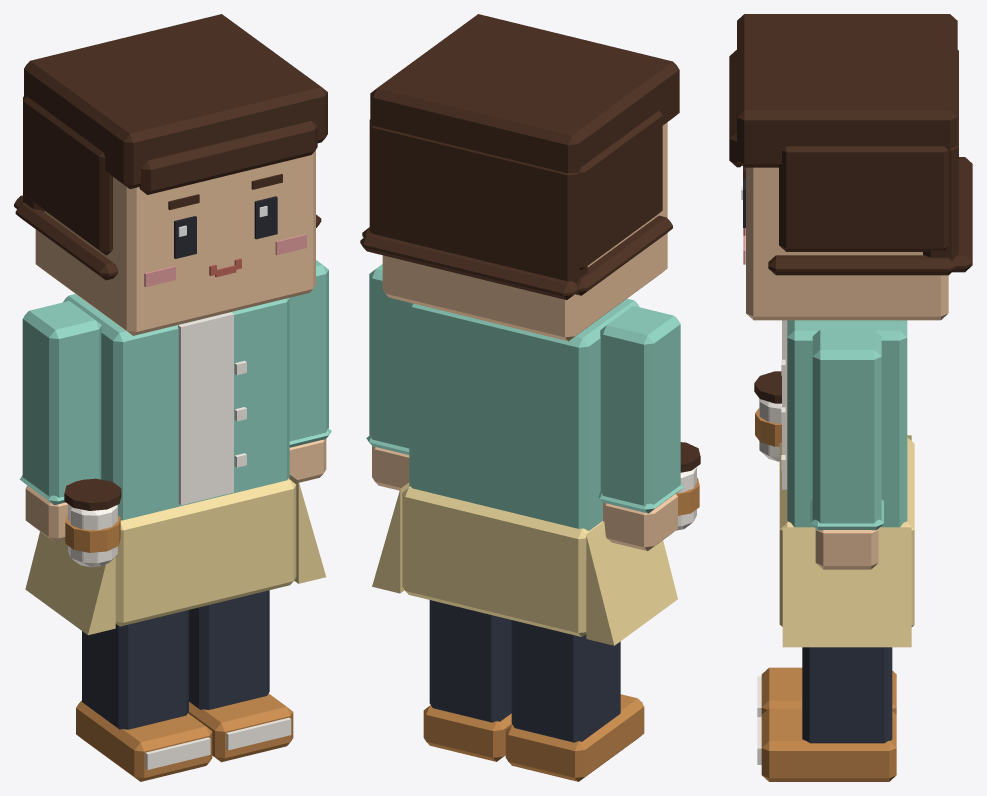
Rendered from CatCafe_NPC_Customer_A.glb.
3 renders of one model, left to right at view 1: azimuth 30°, elevation 25°; view 2: azimuth 150°, elevation 25°; view 3: azimuth 270°, elevation 25°, orthographic. The views are drawn at different scales.
Visible parts, largest first — view 1: CatCafe_NPC_Customer_A; view 2: CatCafe_NPC_Customer_A; view 3: CatCafe_NPC_Customer_A.
Boxes of the visible parts, box(x1,y1,x2,y2) form: CatCafe_NPC_Customer_A: box(14, 14, 331, 781); CatCafe_NPC_Customer_A: box(360, 14, 700, 781); CatCafe_NPC_Customer_A: box(729, 14, 972, 781).
Size of the model in its own units: 2.25 by 5.02 by 1.62.
Materials: 1 (1 with a texture image).
